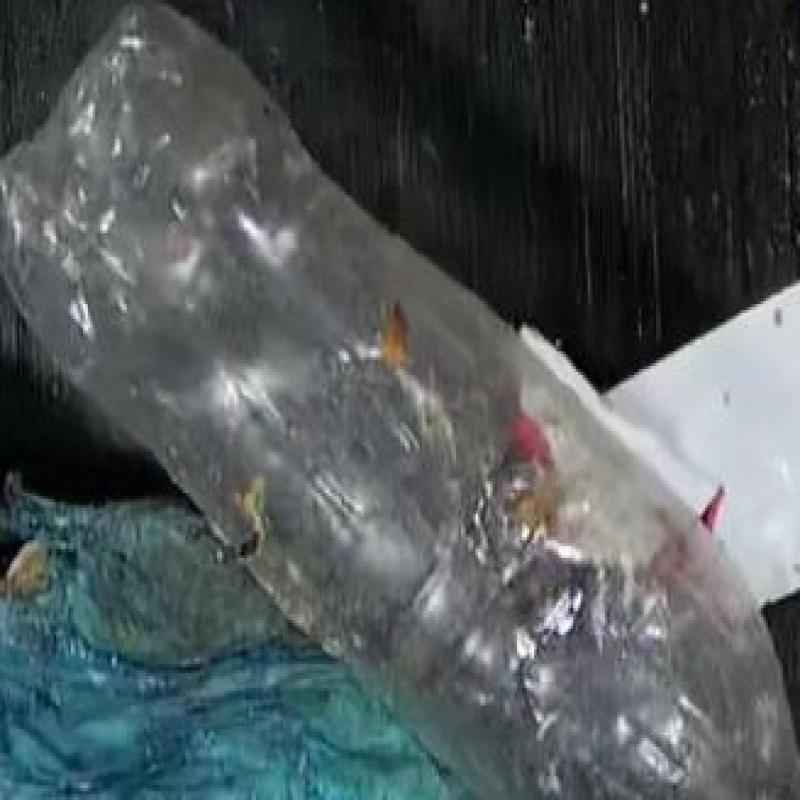botella: (14, 0, 800, 794)
